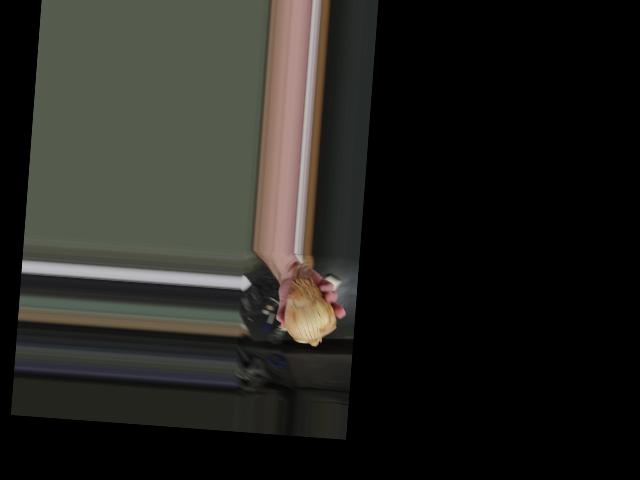onion: (281, 279, 338, 346)
